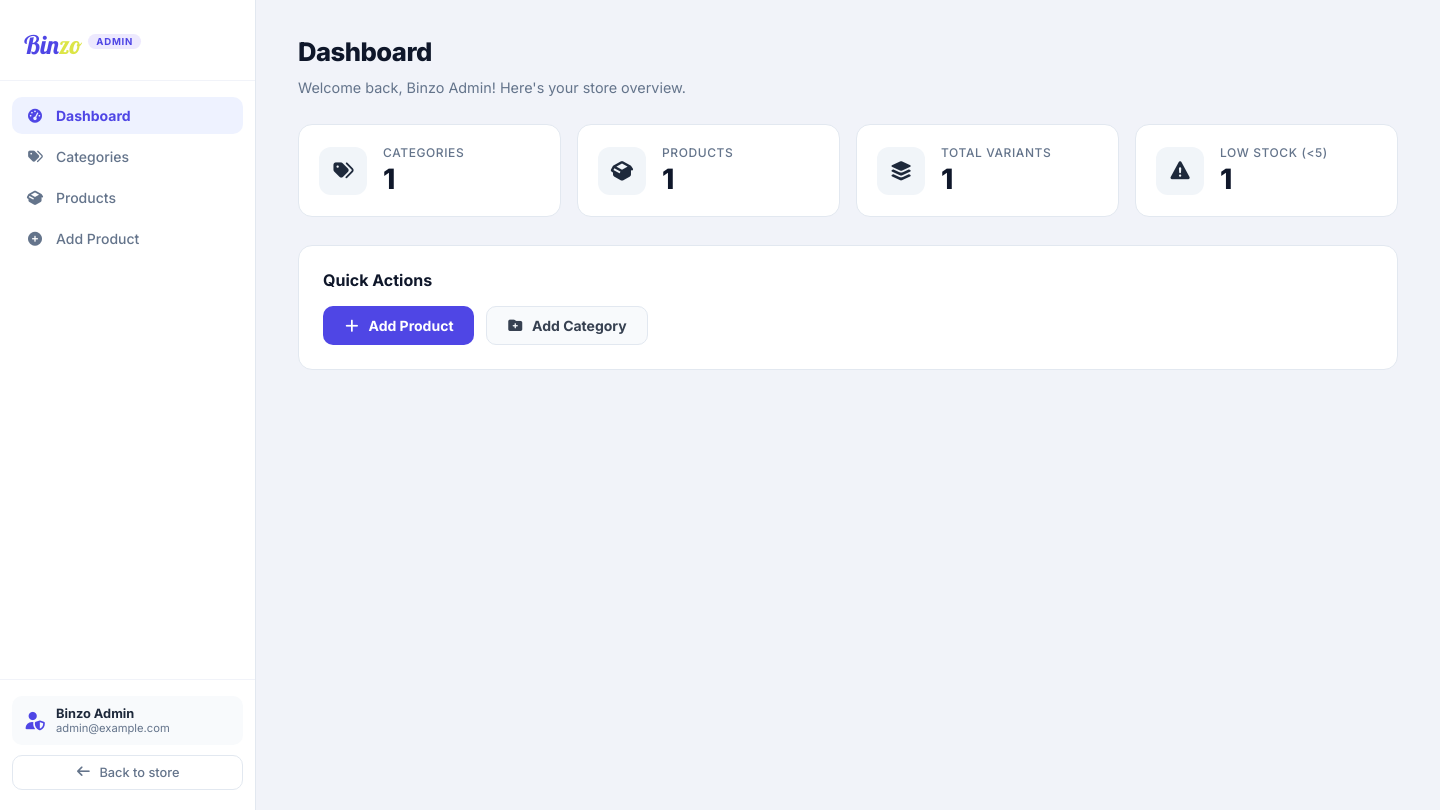
Scenario: AdminPage integration › updates and deletes products from the query-backed product list
Expected: the text "Welcome back, Binzo Admin! Here's your store overview." is shown, 298,79 -> 686,96
Click the button "Products": (128,198) 12,179 -> 243,216
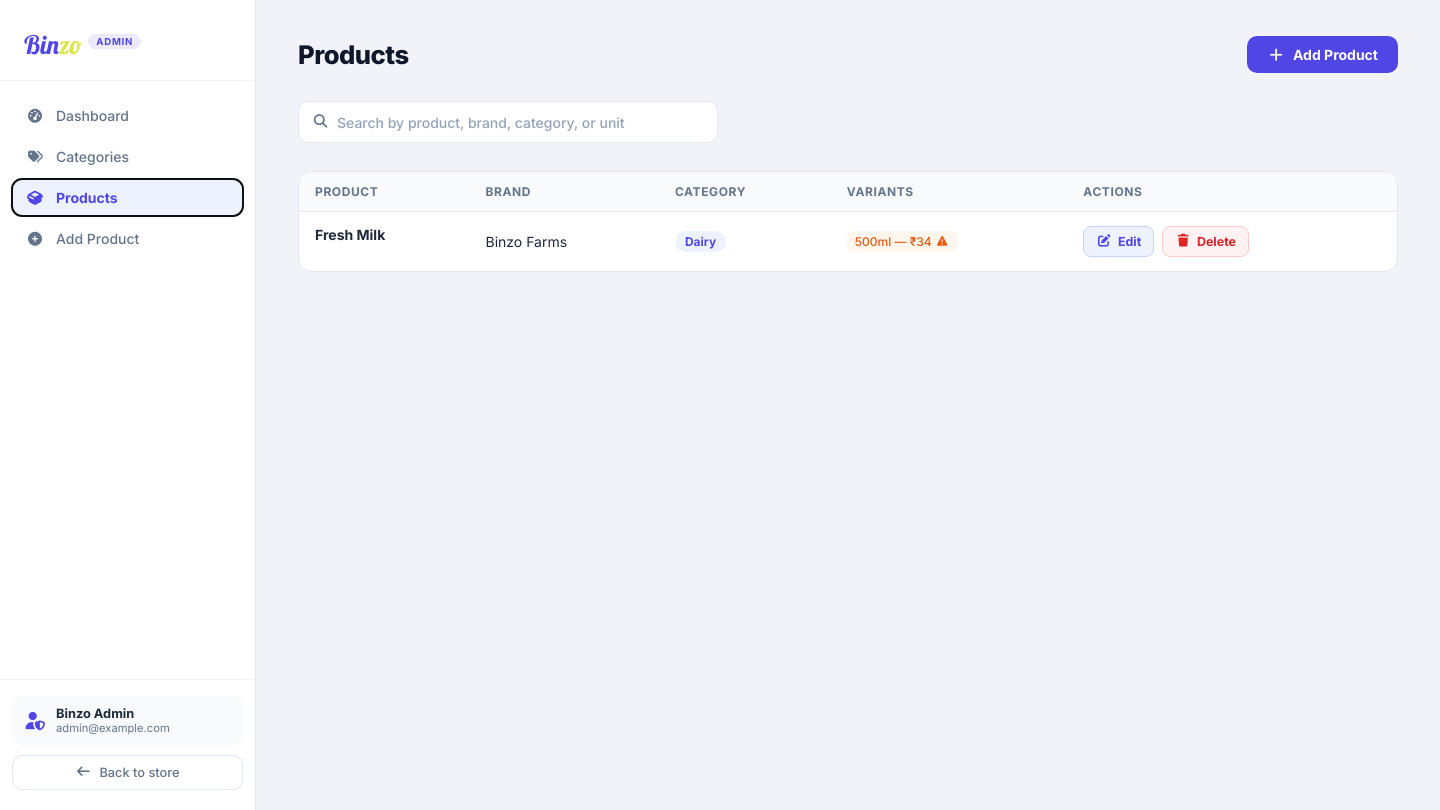
Expected: the text "Fresh Milk" is shown, 299,212 -> 470,257
Click the button with aria-label "Edit product Fresh Milk": (1119,242) 1083,226 -> 1154,257
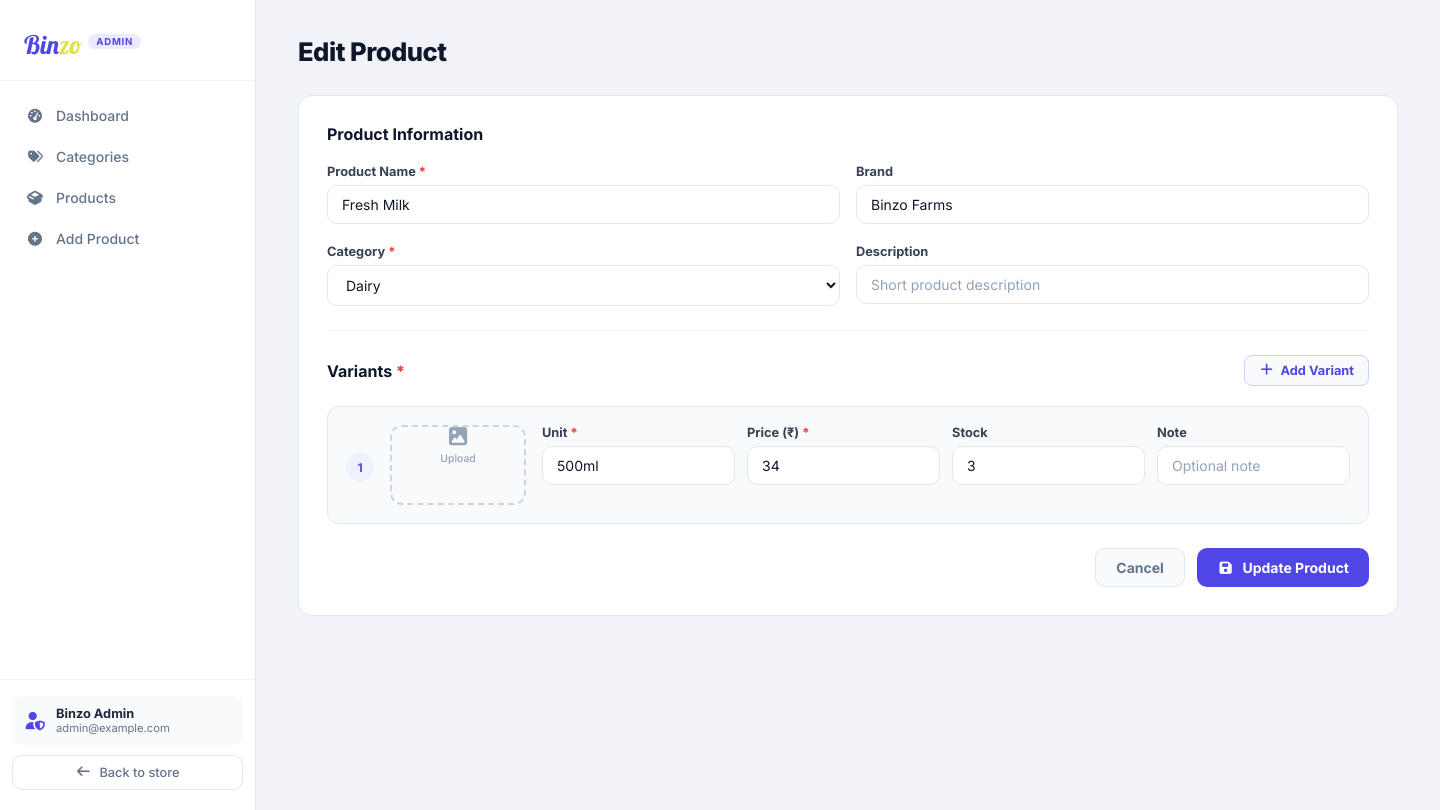
Replace the text in the field labelled "Product Name *" with "Updated Milk": (584,204) 327,185 -> 840,224
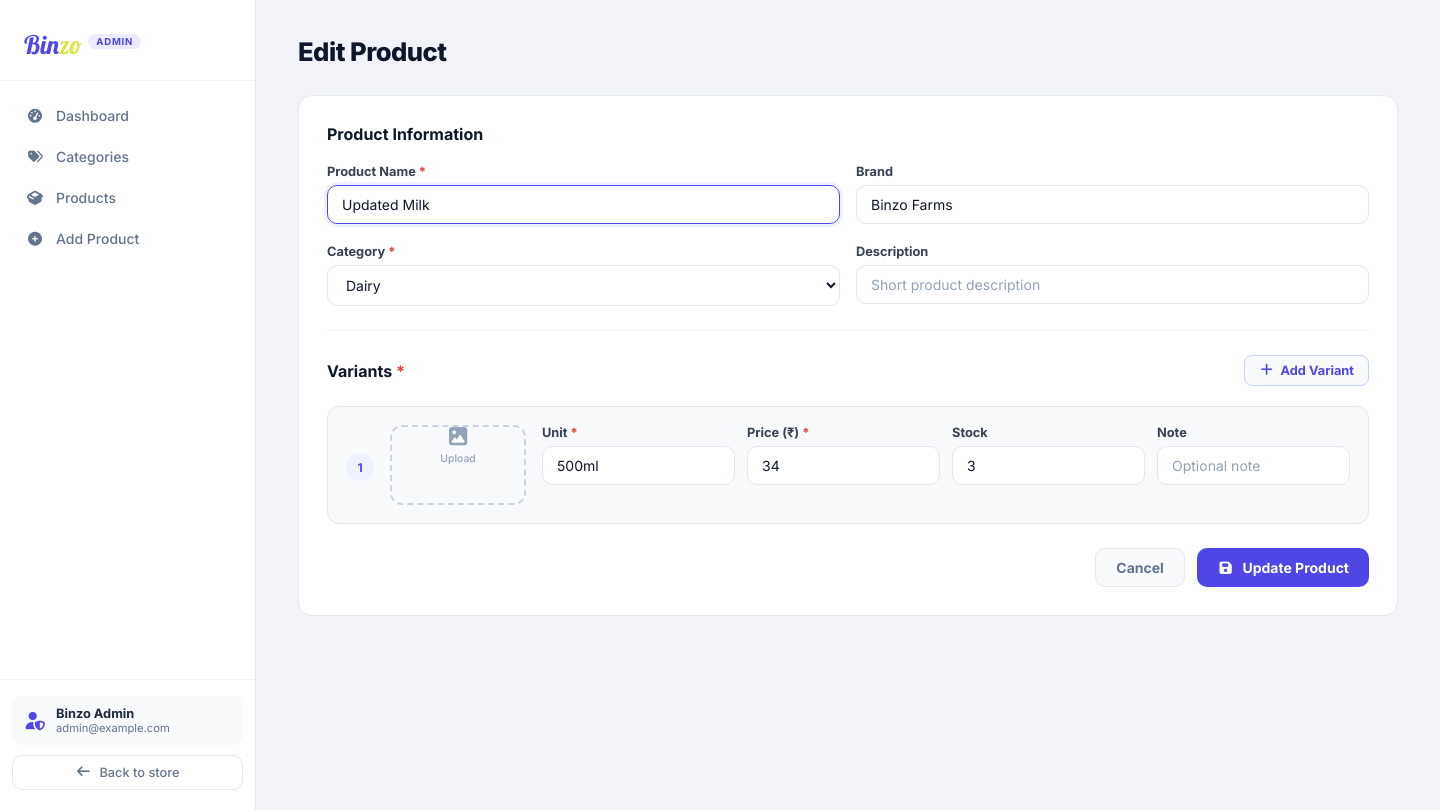
Click the button "Update Product": (1283,568) 1197,548 -> 1369,587
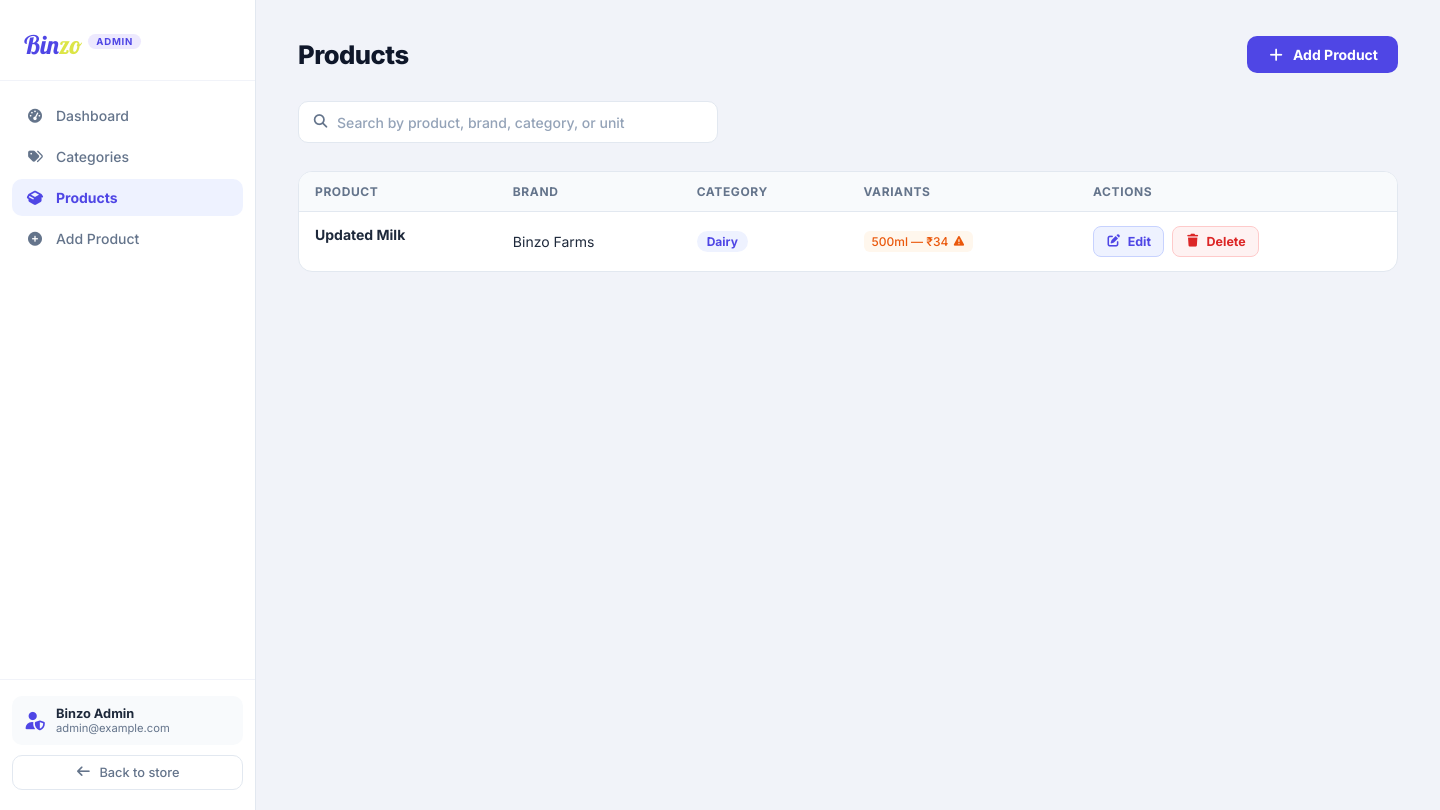
Expected: the text "Updated Milk" is shown, 299,212 -> 497,257
Click the button with aria-label "Delete product Updated Milk": (1215,242) 1172,226 -> 1259,257
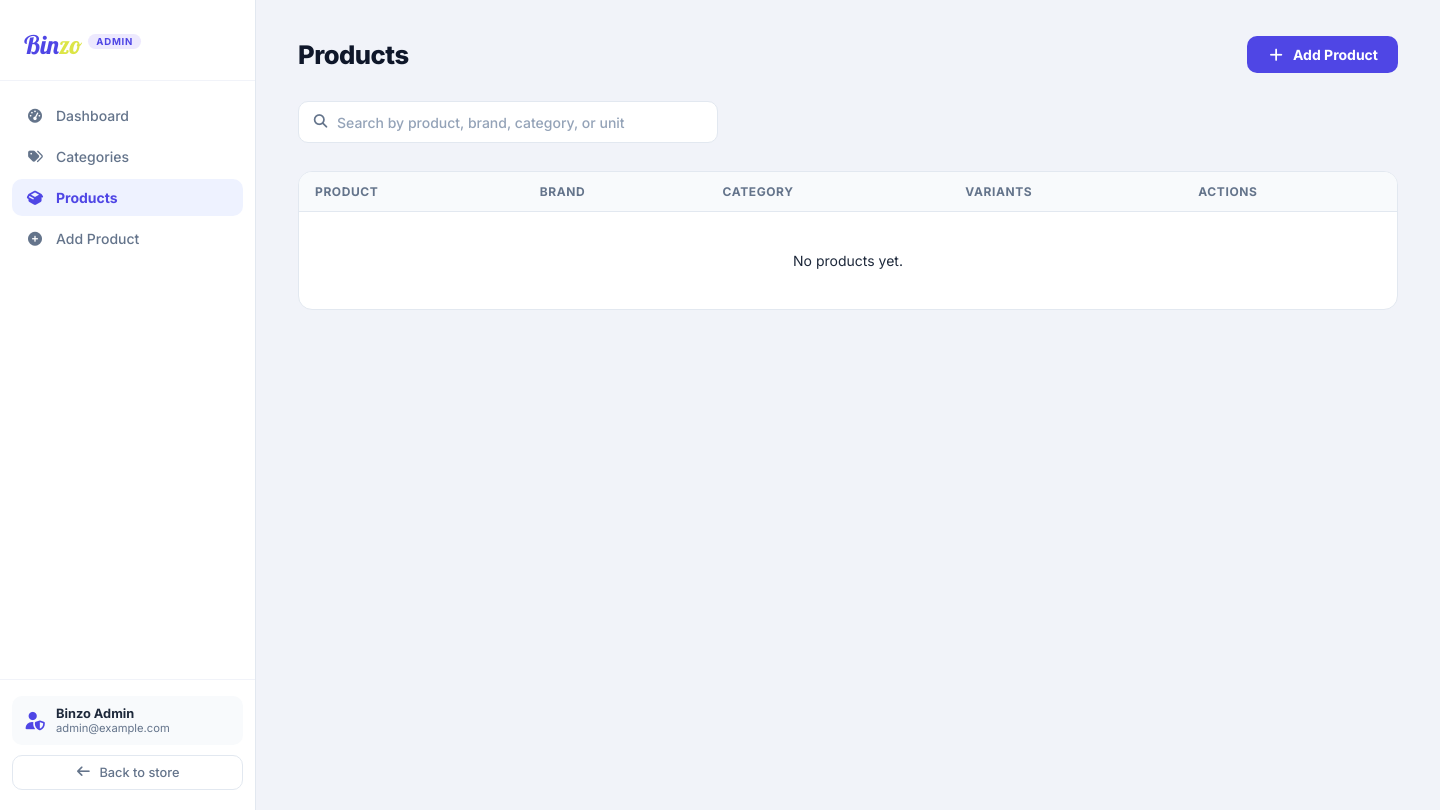
Expected: the text "Updated Milk" is gone
